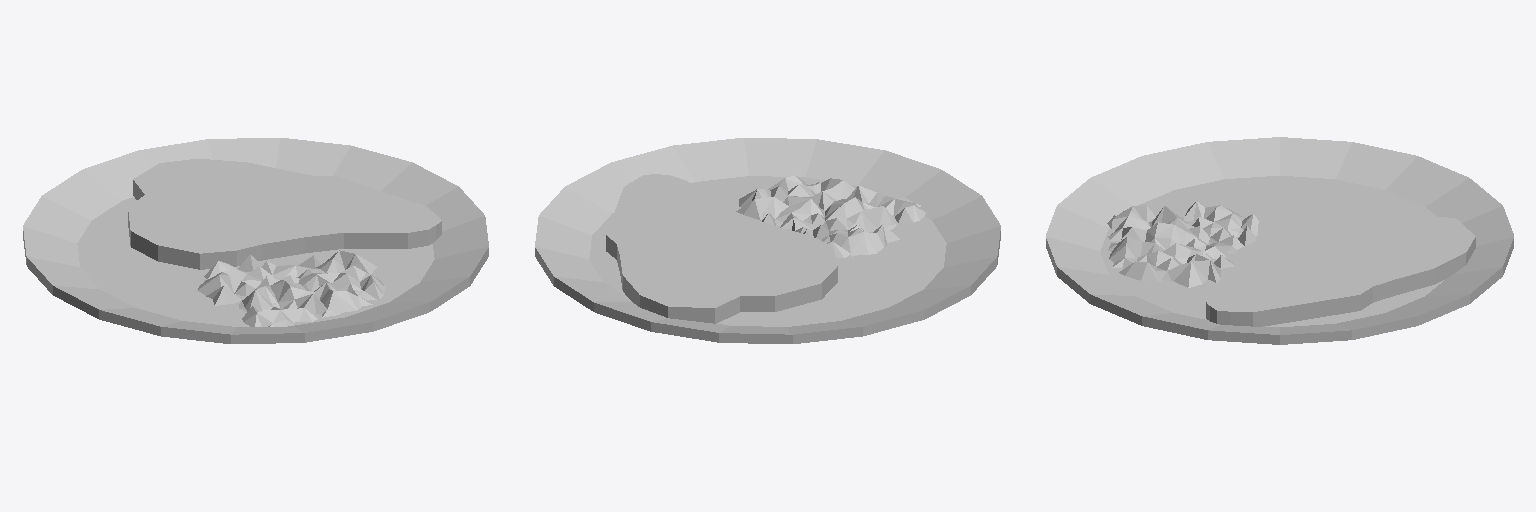
The model's file is PlateSteak.obj.
The picture shows the model from 3 angles: view 1: azimuth 30°, elevation 25°; view 2: azimuth 150°, elevation 25°; view 3: azimuth 270°, elevation 25°; orthographic projection.
Size of the model in its own units: 0.2747 by 0.0289 by 0.2747.